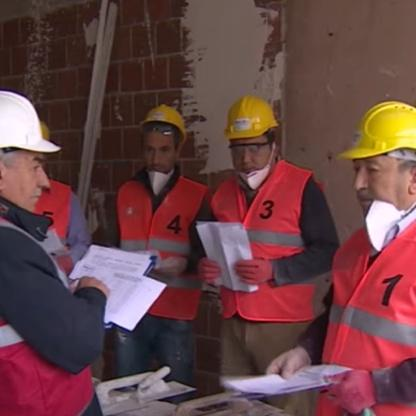helmet: (343, 84, 415, 234), (0, 84, 52, 225), (215, 91, 288, 185), (133, 98, 184, 186)
